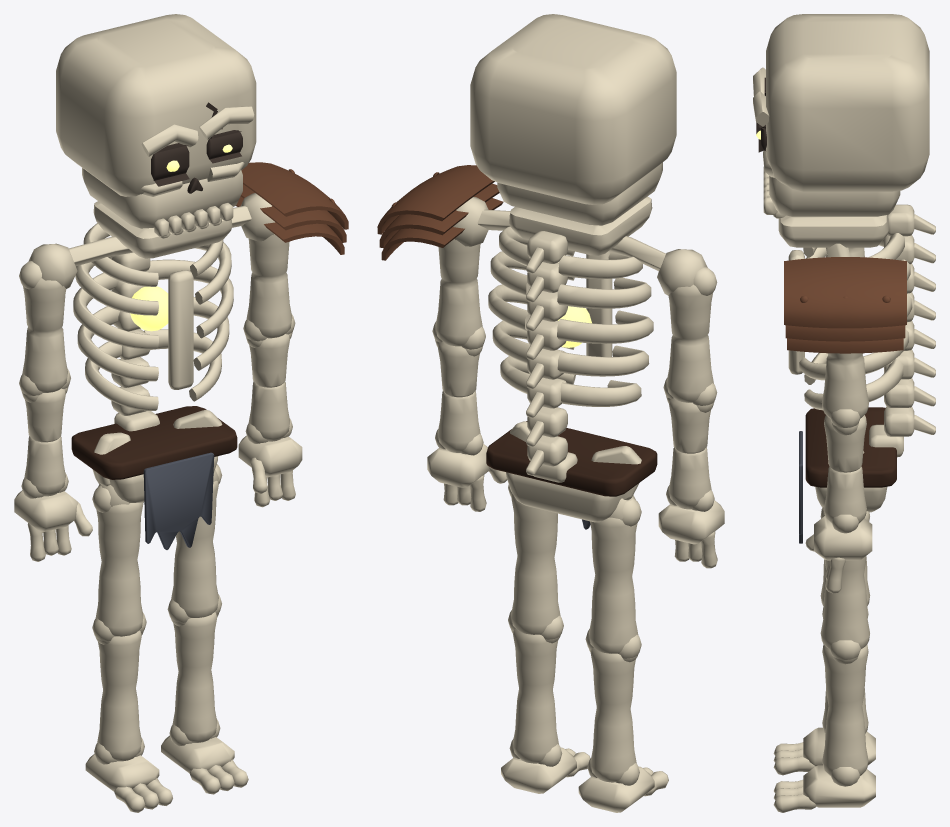
The model's file is Skeleton.fbx.
3 views of the same model, side by side, from view 1: azimuth 30°, elevation 25°; view 2: azimuth 150°, elevation 25°; view 3: azimuth 270°, elevation 25° (orthographic). The views are drawn at different scales.
Visible parts, largest first — view 1: Skeleton_Head, Skeleton_UpperTorso, Skeleton_LowerTorso_Belt, Skeleton_RightUpperLeg, Skeleton_LeftUpperArm_Pauldron, Skeleton_LowerTorso_Cloth, Skeleton_RightLowerLeg, Skeleton_LeftLowerLeg, Skeleton_RightUpperArm, Skeleton_LeftUpperLeg, Skeleton_LeftUpperArm, Skeleton_RightLowerArm (+9 smaller); view 2: Skeleton_Head, Skeleton_UpperTorso, Skeleton_RightUpperLeg, Skeleton_LeftUpperArm_Pauldron, Skeleton_LeftUpperLeg, Skeleton_LowerTorso_Belt, Skeleton_LeftLowerLeg, Skeleton_RightLowerLeg, Skeleton_RightUpperArm, Skeleton_LowerTorso, Skeleton_LeftUpperArm, Skeleton_RightLowerArm (+6 smaller); view 3: Skeleton_Head, Skeleton_LeftUpperArm_Pauldron, Skeleton_UpperTorso, Skeleton_LeftLowerLeg, Skeleton_LeftLowerArm, Skeleton_LeftUpperLeg, Skeleton_LowerTorso_Belt, Skeleton_Head_Jaw, Skeleton_LeftFoot, Skeleton_LeftUpperArm, Skeleton_LeftHand, Skeleton_RightFoot (+2 smaller).
Boxes of the visible parts, box(x1,y1,x2,y2) form: Skeleton_Head: box(56, 14, 256, 236); Skeleton_UpperTorso: box(28, 193, 274, 415); Skeleton_LowerTorso_Belt: box(71, 406, 237, 479); Skeleton_RightUpperLeg: box(92, 485, 146, 641); Skeleton_LeftUpperArm_Pauldron: box(236, 162, 348, 254); Skeleton_LowerTorso_Cloth: box(143, 452, 214, 549); Skeleton_RightLowerLeg: box(94, 630, 144, 764); Skeleton_LeftLowerLeg: box(169, 612, 220, 746); Skeleton_RightUpperArm: box(19, 261, 70, 395); Skeleton_LeftUpperLeg: box(167, 464, 222, 622); Skeleton_LeftUpperArm: box(243, 234, 295, 341); Skeleton_RightLowerArm: box(21, 386, 68, 498); Skeleton_Head: box(470, 14, 676, 225); Skeleton_UpperTorso: box(453, 197, 707, 475); Skeleton_RightUpperLeg: box(585, 497, 641, 658); Skeleton_LeftUpperArm_Pauldron: box(377, 165, 503, 260); Skeleton_LeftUpperLeg: box(508, 484, 563, 639); Skeleton_LowerTorso_Belt: box(486, 421, 657, 496); Skeleton_LeftLowerLeg: box(509, 629, 562, 766); Skeleton_RightLowerLeg: box(587, 648, 639, 785); Skeleton_RightUpperArm: box(663, 266, 717, 405); Skeleton_LowerTorso: box(506, 421, 641, 522); Skeleton_LeftUpperArm: box(432, 239, 485, 349); Skeleton_RightLowerArm: box(666, 396, 714, 511); Skeleton_Head: box(753, 14, 929, 216); Skeleton_LeftUpperArm_Pauldron: box(784, 257, 906, 353); Skeleton_UpperTorso: box(788, 204, 935, 436); Skeleton_LeftLowerLeg: box(822, 644, 868, 786); Skeleton_LeftLowerArm: box(824, 415, 866, 533); Skeleton_LeftUpperLeg: box(820, 509, 869, 659); Skeleton_LowerTorso_Belt: box(805, 407, 896, 487); Skeleton_Head_Jaw: box(773, 211, 888, 247); Skeleton_LeftFoot: box(773, 765, 875, 812); Skeleton_LeftUpperArm: box(821, 353, 868, 427); Skeleton_LeftHand: box(805, 516, 872, 593); Skeleton_RightFoot: box(773, 727, 875, 775).
Size of the model in its own units: 61.17 by 141 by 31.28.
